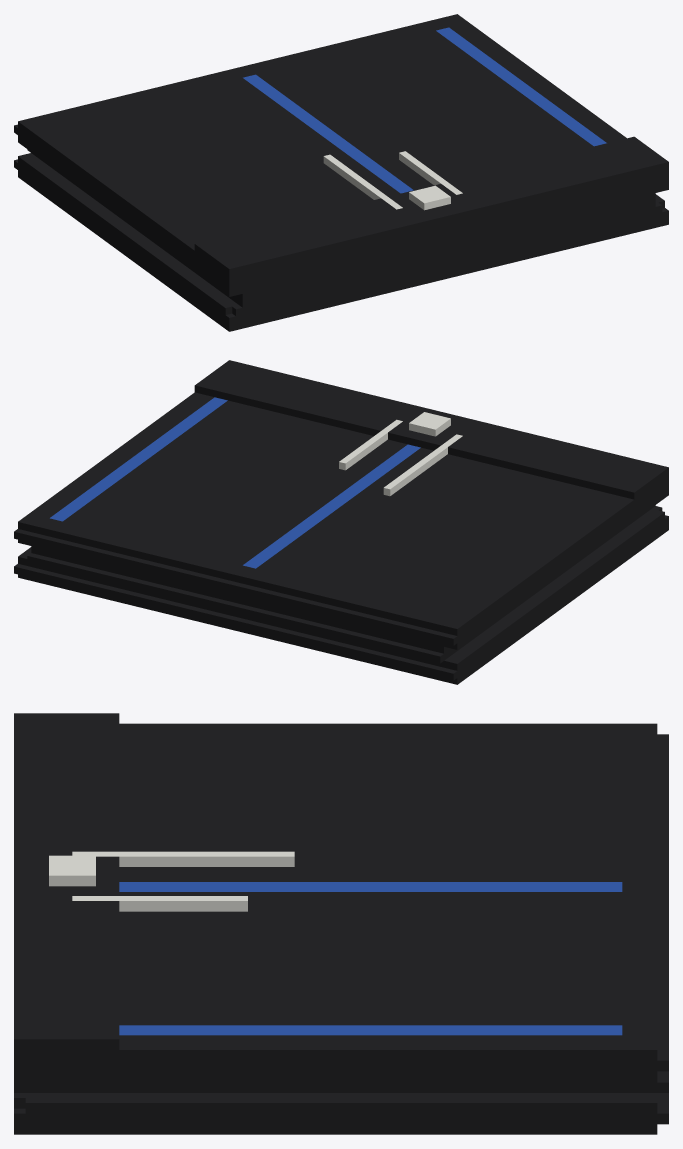
The model's file is wetsuit_shorts.glb.
3 views of the same model, one above another, from view 1: azimuth 30°, elevation 25°; view 2: azimuth 150°, elevation 25°; view 3: azimuth 270°, elevation 25° (orthographic). The views are drawn at different scales.
Visible parts, largest first — view 1: wetsuit_shorts:compound; view 2: wetsuit_shorts:compound; view 3: wetsuit_shorts:compound.
Boxes of the visible parts, box(x1,y1,x2,y2) form: wetsuit_shorts:compound: box(14, 14, 668, 331); wetsuit_shorts:compound: box(14, 360, 668, 684); wetsuit_shorts:compound: box(14, 713, 668, 1134).
Size of the model in its own units: 0.264 by 0.04 by 0.224.
